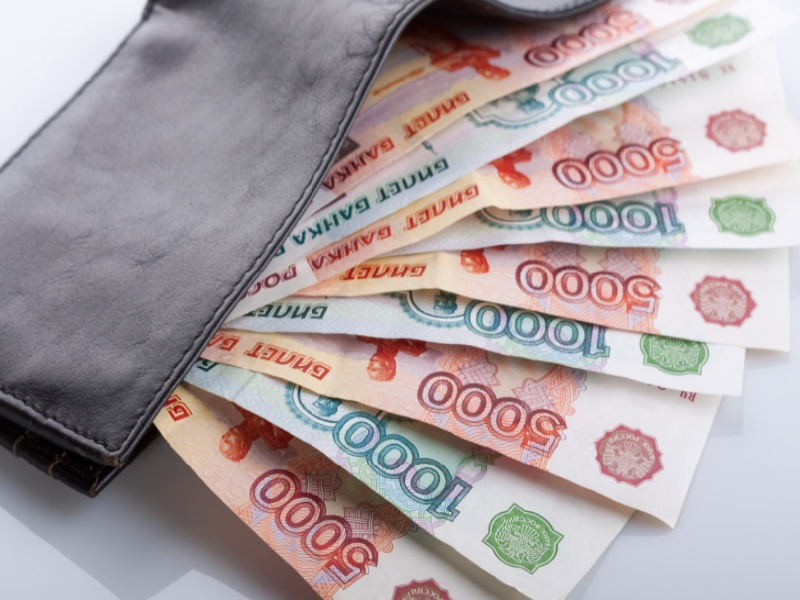cash: (152, 1, 800, 597)
